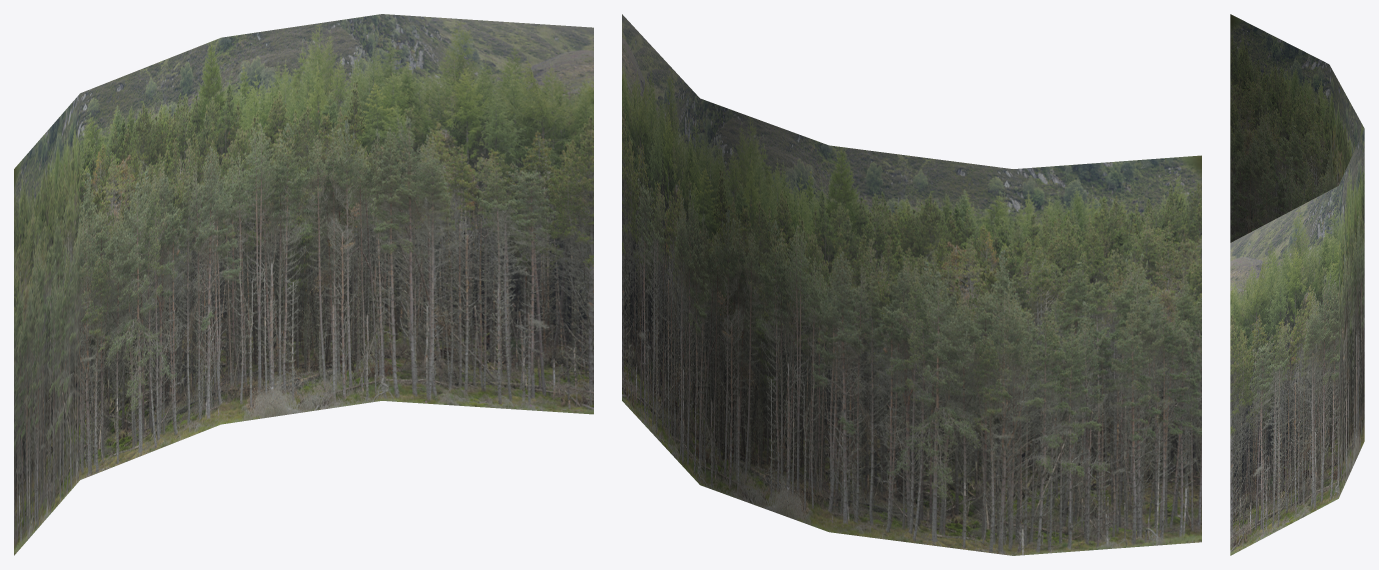
Rendered from BackGround2.fbx.
3 renders of one model, left to right at view 1: azimuth 30°, elevation 25°; view 2: azimuth 150°, elevation 25°; view 3: azimuth 270°, elevation 25°, orthographic. The views are drawn at different scales.
Visible parts, largest first — view 1: BackGround2; view 2: BackGround2; view 3: BackGround2.
Boxes of the visible parts, x1=… form: BackGround2: x1=14, y1=14, x2=593, y2=555; BackGround2: x1=622, y1=14, x2=1201, y2=555; BackGround2: x1=1230, y1=14, x2=1364, y2=555.
Bounding box in the file's own units: 2310 × 1473 × 572.
1 material, 1 textured.
